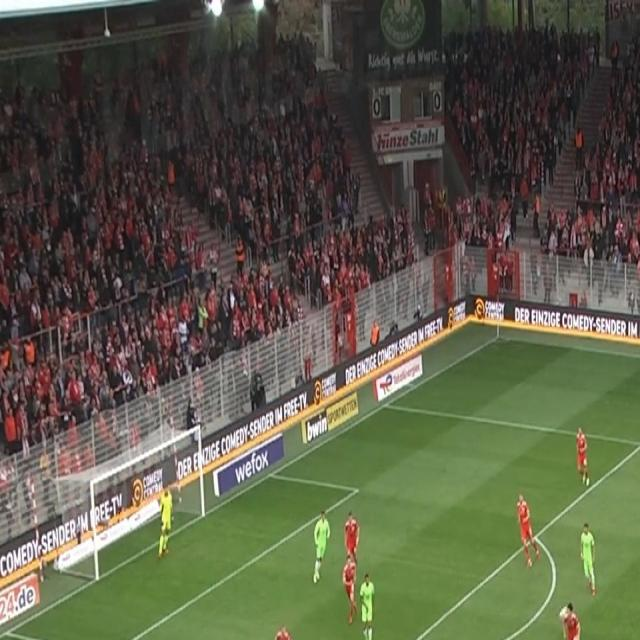ball: (558, 604, 568, 620)
